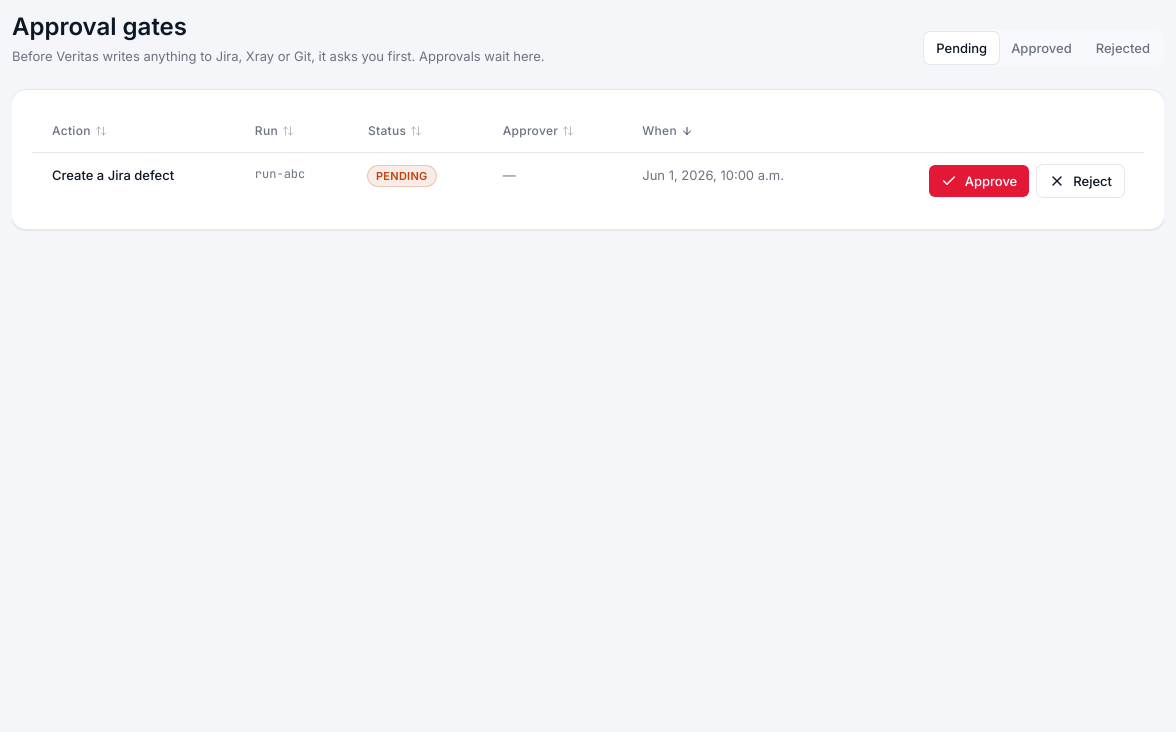
Test case: Approval gates › approves a pending gate (POST /gates/:id/approve) and shows the success toast
The image size is (1176, 732).
Check: the text "Create a Jira defect" is shown, box [32,152,235,209]
Click the button "Approve": (979, 181) [929,165,1029,197]
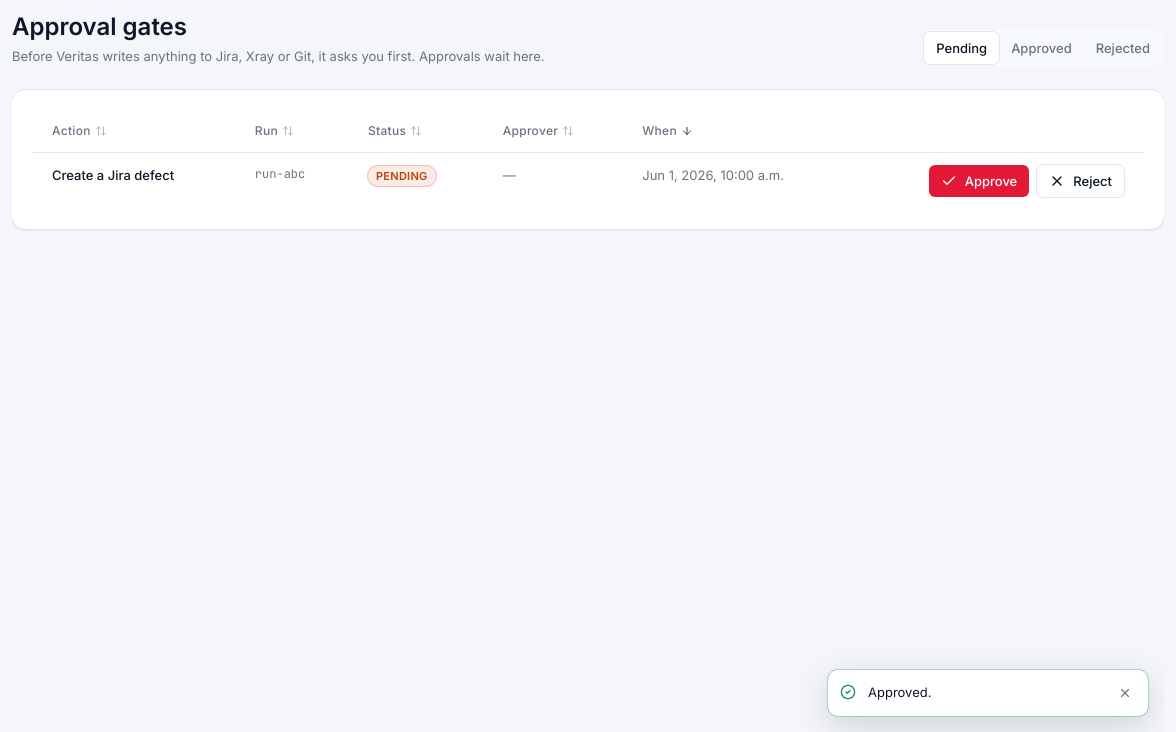
Check: the text "Approved." is shown, box [868,684,932,700]
